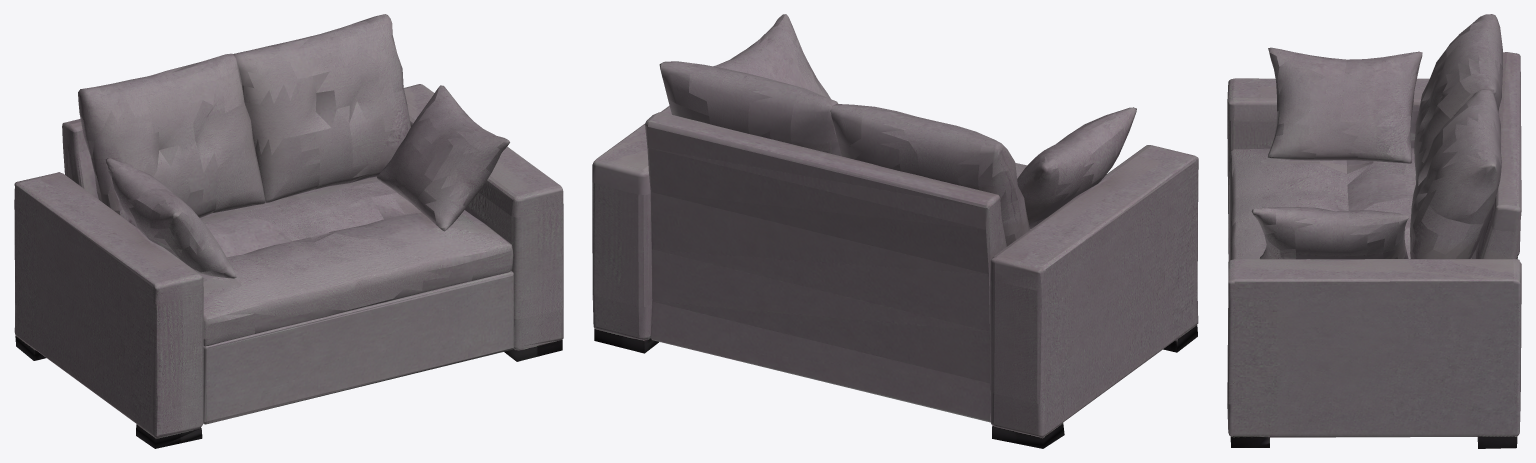
Rendered from sofa-egeo.glb.
The picture shows the model from 3 angles, left to right: view 1: azimuth 30°, elevation 25°; view 2: azimuth 150°, elevation 25°; view 3: azimuth 270°, elevation 25°; orthographic projection. The views are drawn at different scales.
Bounding box in the file's own units: 1 × 0.6016 × 0.6133.
Materials: 1 (1 with a texture image).
